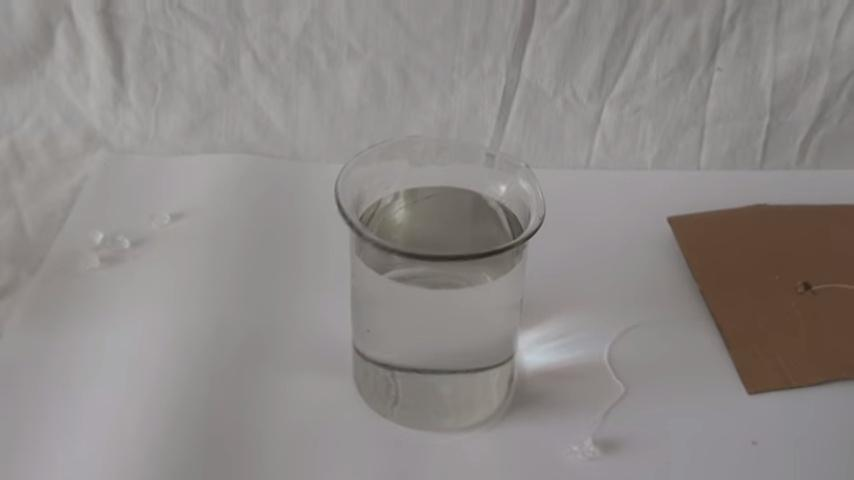Beaker: (324, 126, 548, 437)
